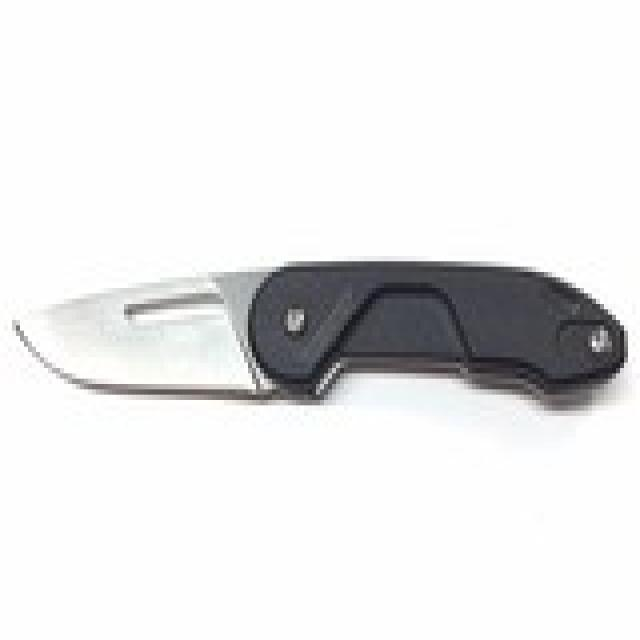Knife: (4, 264, 631, 417)
